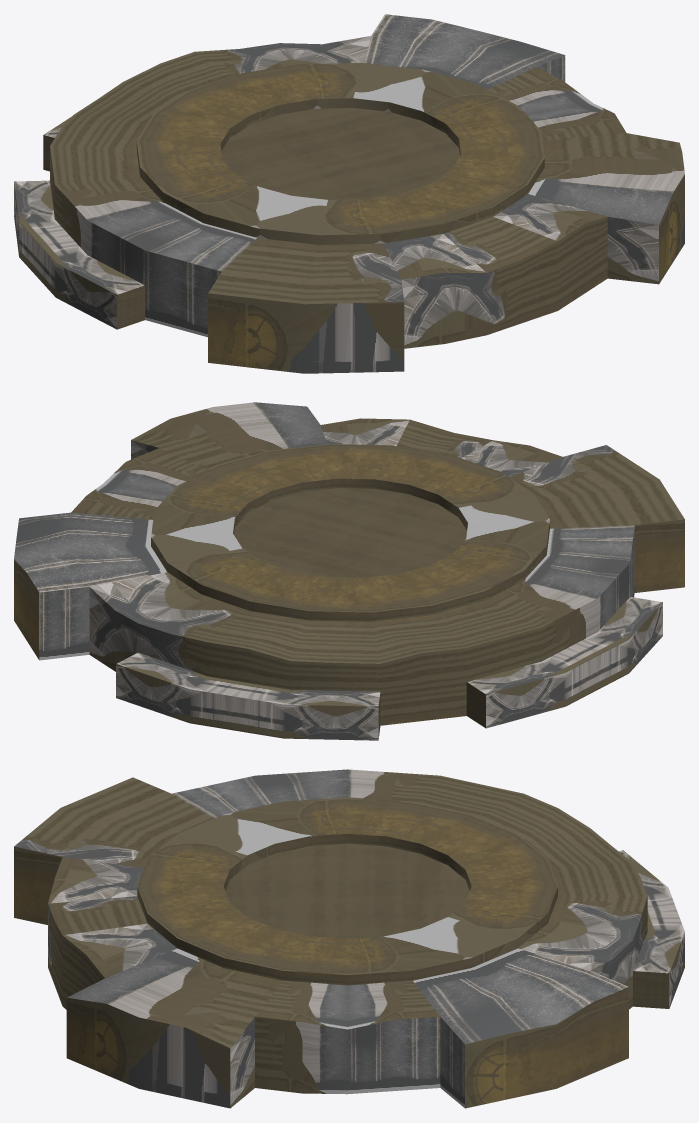
The model's file is Altar.fbx.
3 views of the same model, one above another, from view 1: azimuth 30°, elevation 25°; view 2: azimuth 150°, elevation 25°; view 3: azimuth 270°, elevation 25° (orthographic). The views are drawn at different scales.
Parts seen in each view (by area): view 1: Cylinder004; view 2: Cylinder004; view 3: Cylinder004.
Boxes of the visible parts, <box> form: Cylinder004: <box>14,14,684,373</box>; Cylinder004: <box>14,402,684,740</box>; Cylinder004: <box>14,769,684,1108</box>.
Bounding box in the file's own units: 170 × 22.79 × 170.
